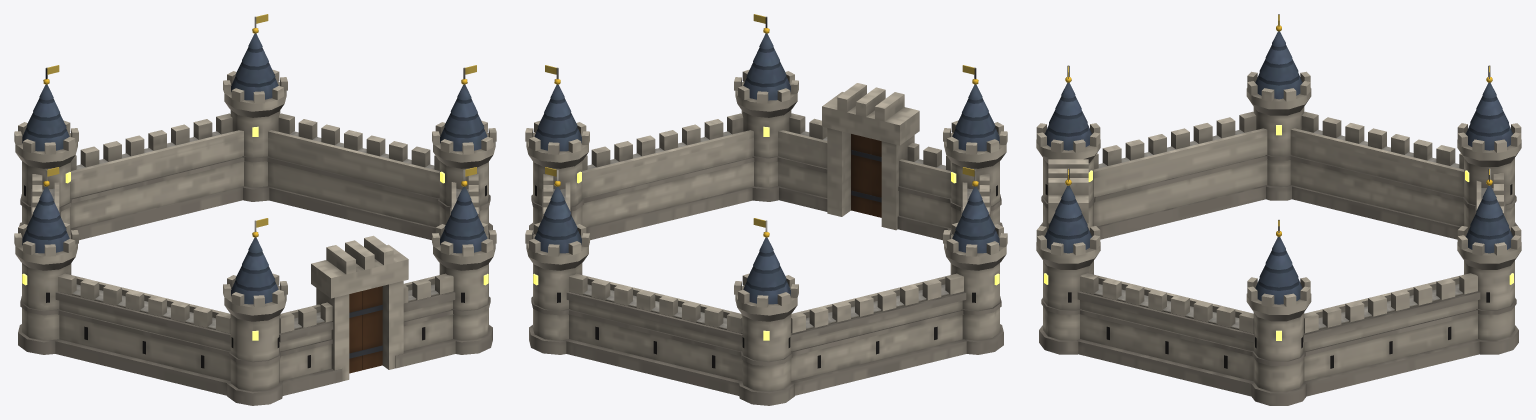
File: fort_l3.glb
3 renders of one model, left to right at view 1: azimuth 30°, elevation 25°; view 2: azimuth 150°, elevation 25°; view 3: azimuth 270°, elevation 25°, orthographic.
Visible parts, largest first — view 1: fort_l3; view 2: fort_l3; view 3: fort_l3.
Boxes of the visible parts, x1,y1,x2,y2 form: fort_l3: (14,14,496,405); fort_l3: (525,14,1007,405); fort_l3: (1036,14,1521,405).
Size of the model in its own units: 1.95 by 0.68 by 1.72.
Materials: 2 (1 with a texture image).
